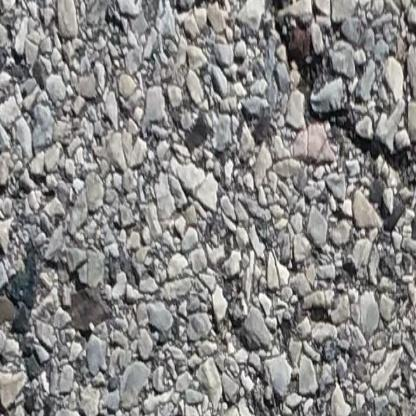Cracks: (219, 0, 416, 196)
